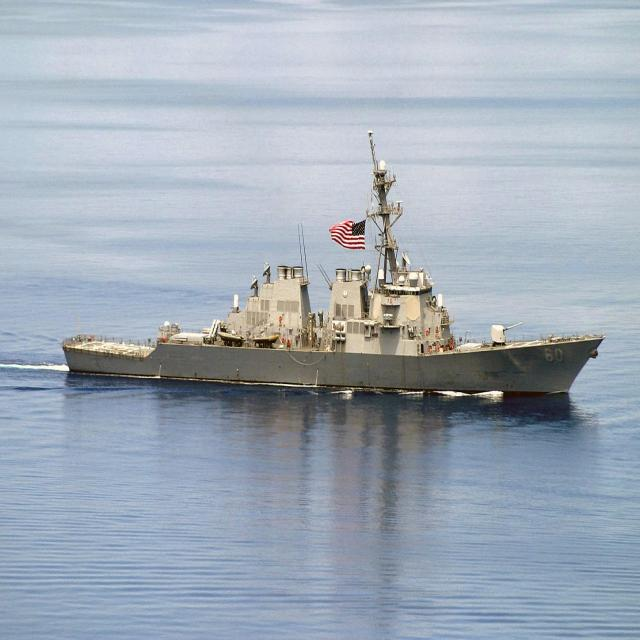navalvessels: (69, 102, 608, 420)
